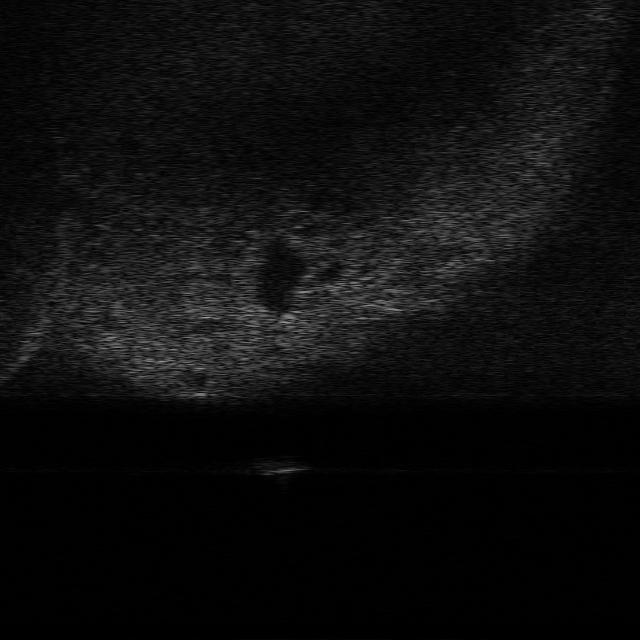cube: (252, 452, 306, 475)
